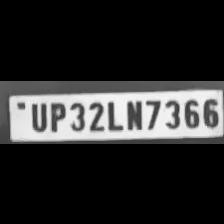2: (86, 97, 104, 131)
3: (66, 98, 86, 130), (162, 96, 180, 128)
6: (200, 95, 220, 127), (182, 95, 200, 127)
7: (142, 96, 160, 130)
L: (104, 97, 122, 130)
N: (122, 96, 142, 130)
P: (46, 99, 66, 131)
U: (27, 99, 47, 130)
